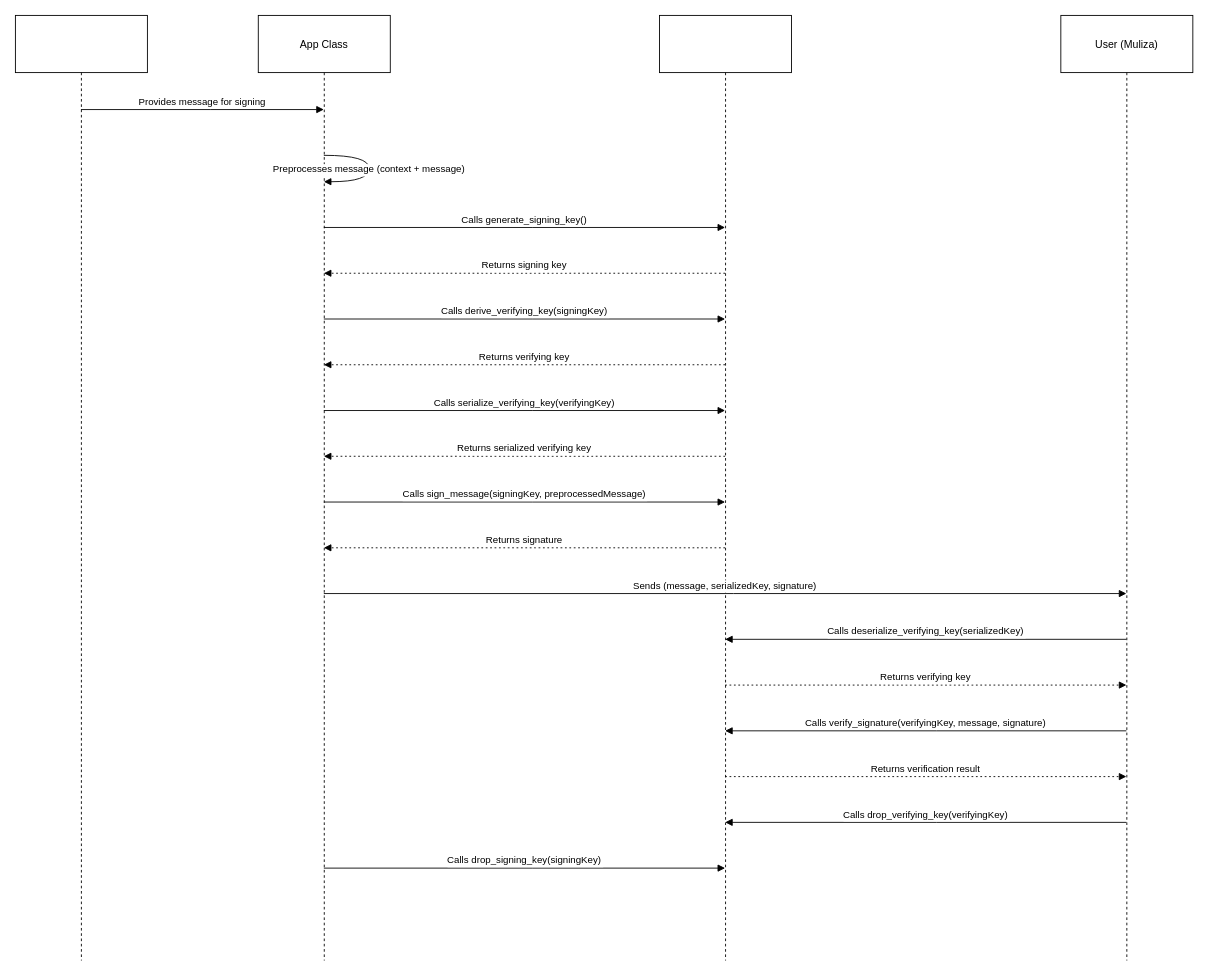
Some shapes in this 1208 by 976 pixel diagram are drawn without their labels. The box of each missing label's shape, as (x1, y1, x2, y2) in pixels:
Rust Library: (659, 15, 792, 961)
User (Tyrone): (15, 15, 147, 961)
